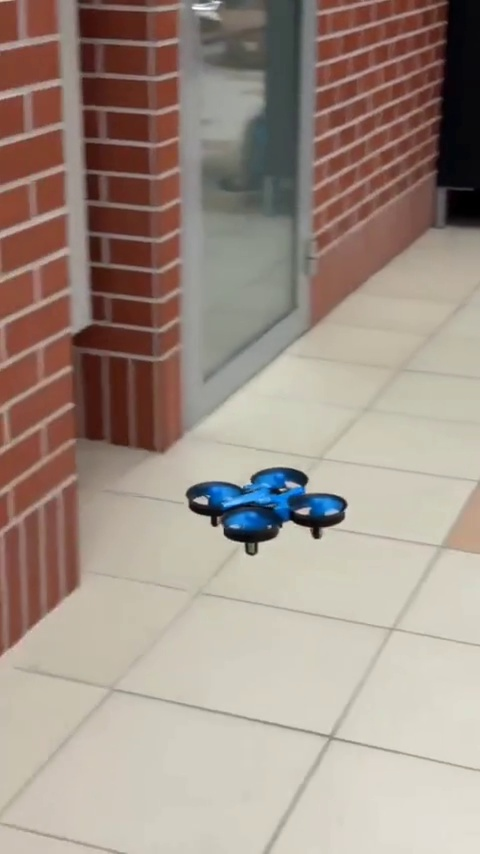drone: (197, 467, 352, 560)
